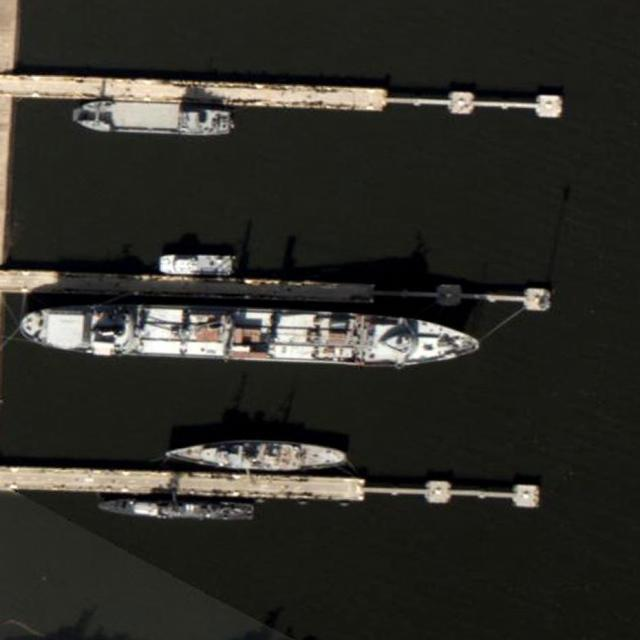Cargo: (17, 295, 482, 374)
Dock: (11, 73, 560, 117), (1, 465, 538, 506), (1, 270, 550, 308)
Other Warship: (67, 98, 237, 138), (160, 440, 345, 470), (98, 497, 257, 522), (157, 253, 235, 275)
